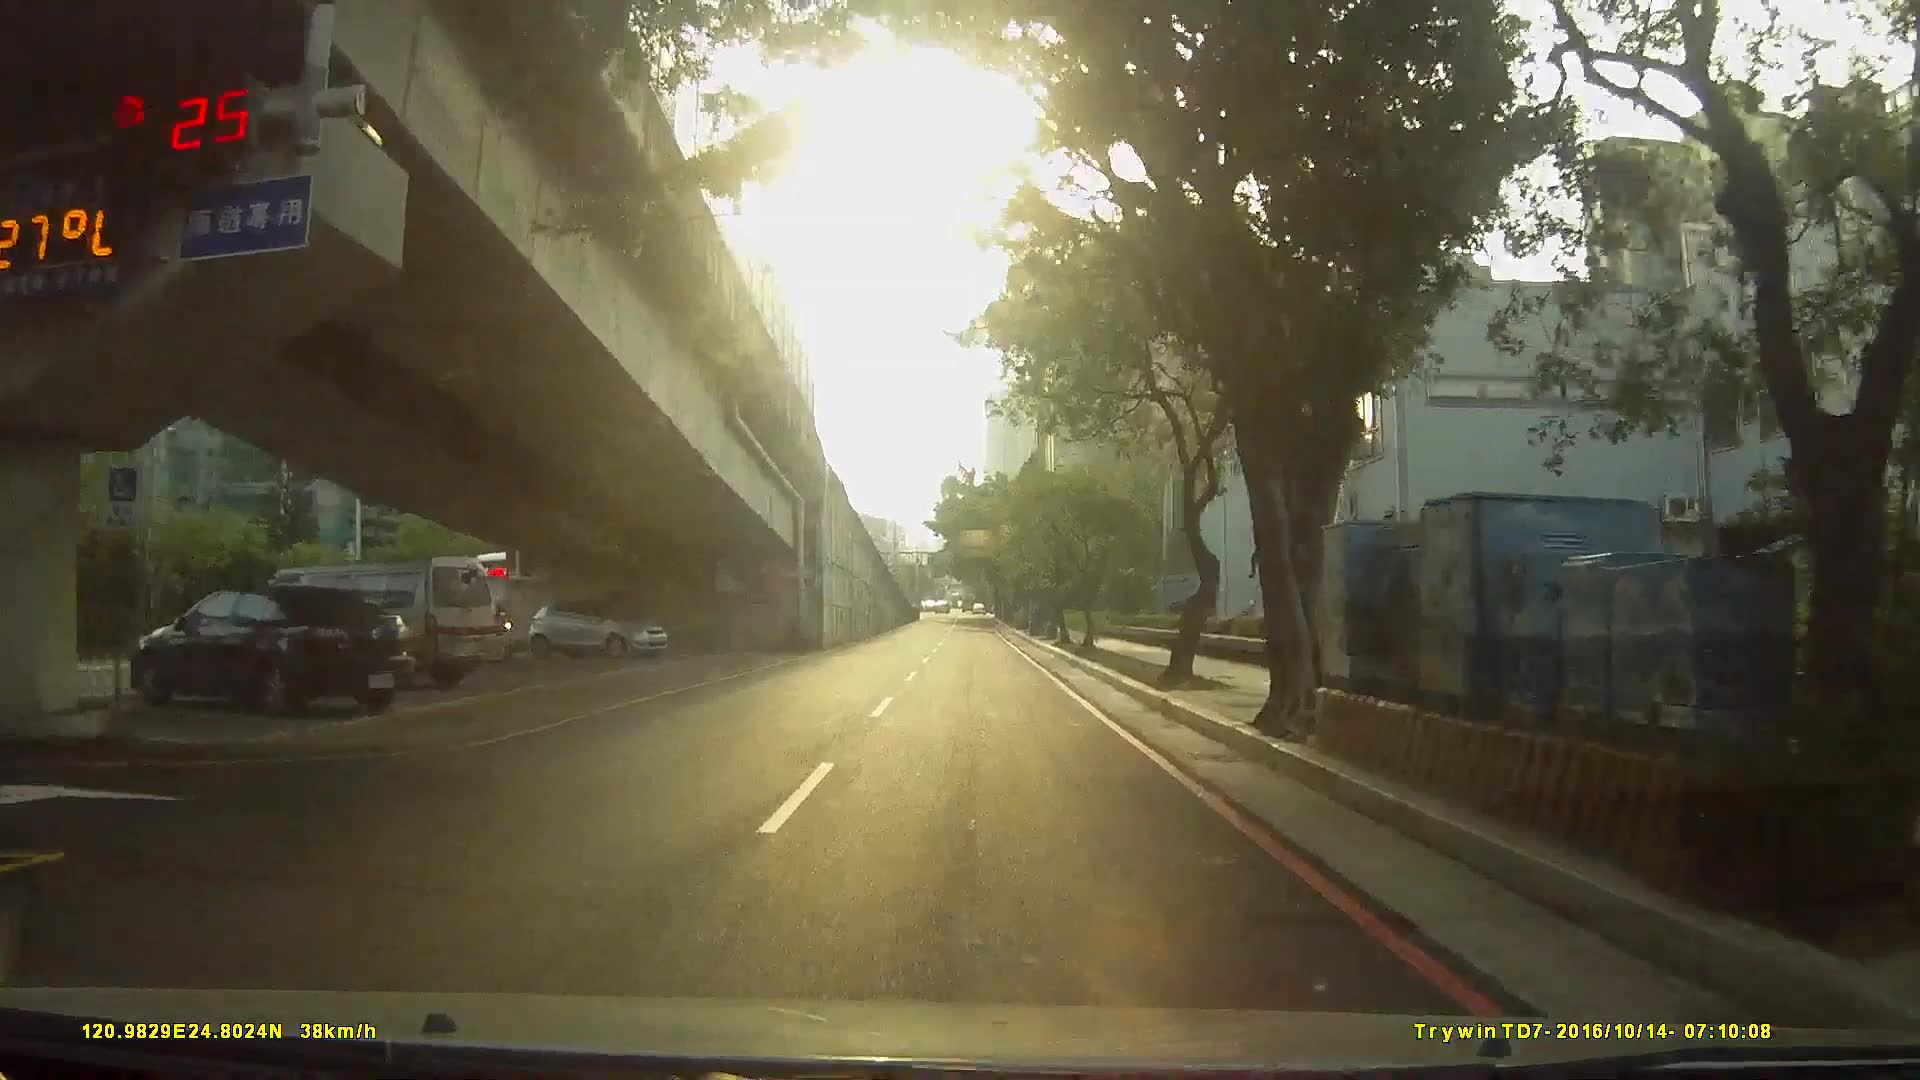vehicle: (109, 580, 414, 727), (231, 551, 508, 698), (520, 603, 666, 667)
